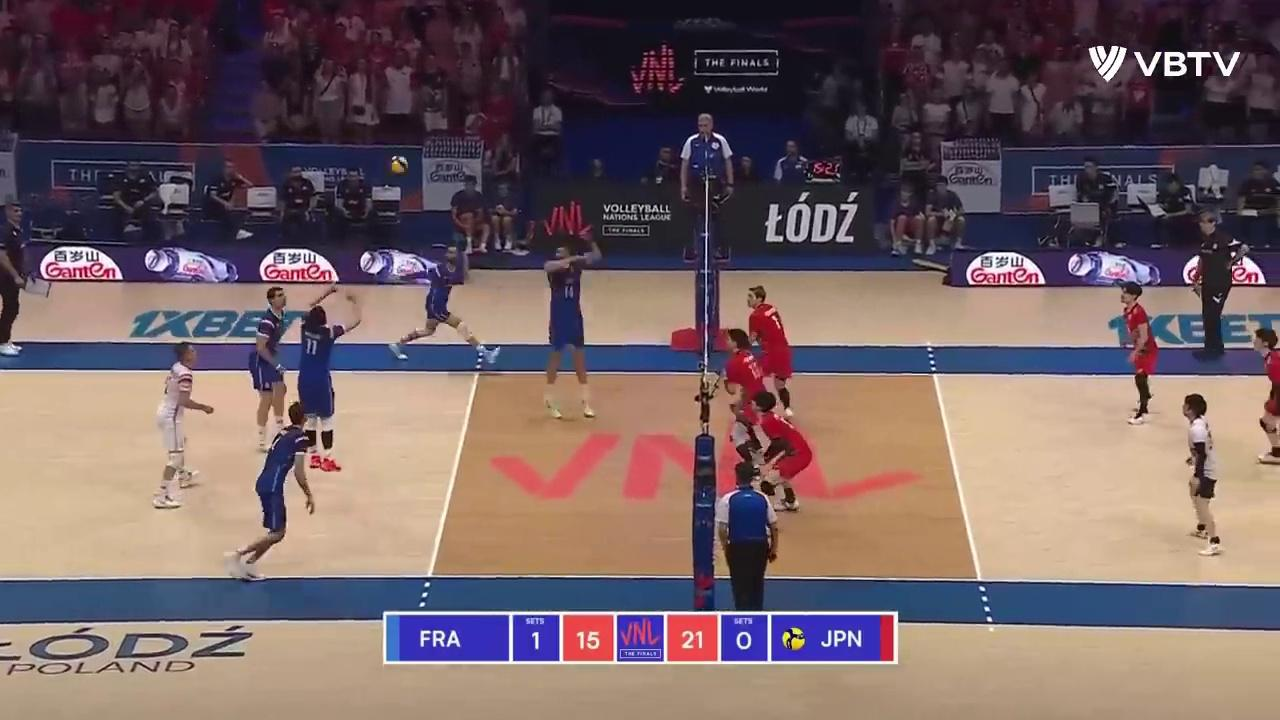ball: (388, 156, 409, 176)
